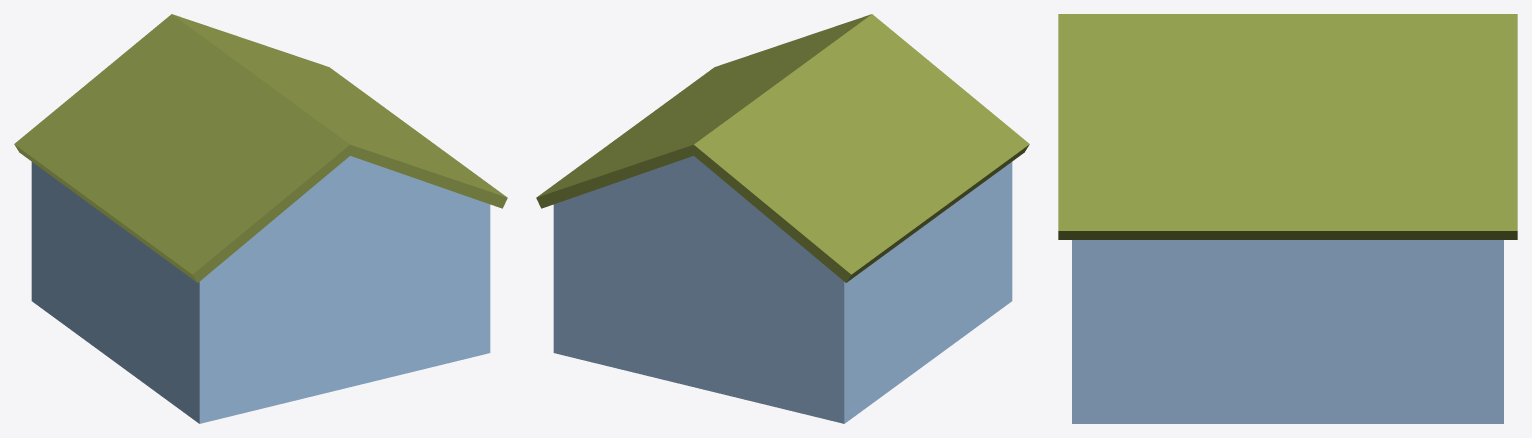
File: Map-House-T-Lv1-G.fbx
3 renders of one model, left to right at view 1: azimuth 30°, elevation 25°; view 2: azimuth 150°, elevation 25°; view 3: azimuth 270°, elevation 25°, orthographic. The views are drawn at different scales.
Parts seen in each view (by area): view 1: Map-House-T-Lv1-G; view 2: Map-House-T-Lv1-G; view 3: Map-House-T-Lv1-G.
Part boxes in pixels (left/top/right/bottom): Map-House-T-Lv1-G: left=14, top=14, right=507, bottom=423; Map-House-T-Lv1-G: left=536, top=14, right=1029, bottom=423; Map-House-T-Lv1-G: left=1058, top=14, right=1517, bottom=423.
Size of the model in its own units: 1.3 by 0.975 by 1.27.
